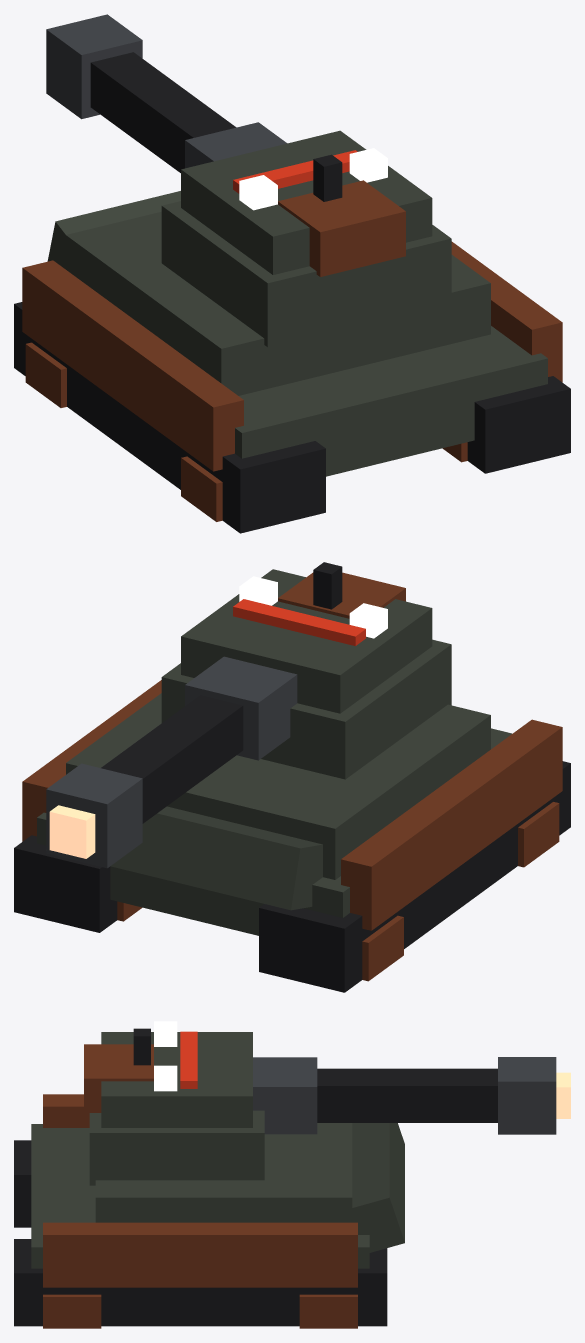
The model's file is tank.glb.
3 renders of one model, top to bottom at view 1: azimuth 30°, elevation 25°; view 2: azimuth 150°, elevation 25°; view 3: azimuth 270°, elevation 25°, orthographic. The views are drawn at different scales.
Parts seen in each view (by area): view 1: P07_PirateHull, P06_PirateHull, P09_PirateRust, P11_PirateHull, P00_Track, P12_PirateHull, P15_Track, P13_PirateRust, P01_Track, P16_Steel, P10_PirateRust, P14_Steel (+7 smaller); view 2: P07_PirateHull, P09_PirateRust, P12_PirateHull, P00_Track, P08_PirateHull, P11_PirateHull, P15_Track, P06_PirateHull, P01_Track, P16_Steel, P14_Steel, P10_PirateRust (+8 smaller); view 3: P10_PirateRust, P07_PirateHull, P01_Track, P12_PirateHull, P15_Track, P11_PirateHull, P06_PirateHull, P08_PirateHull, P14_Steel, P16_Steel, P13_PirateRust, P03_PirateRust (+8 smaller).
Boxes of the visible parts, x1,y1,x2,y2 form: P07_PirateHull: (66, 211, 490, 395); P06_PirateHull: (235, 326, 547, 476); P09_PirateRust: (22, 260, 243, 471); P11_PirateHull: (161, 201, 451, 347); P00_Track: (14, 302, 325, 533); P12_PirateHull: (181, 130, 432, 274); P15_Track: (90, 52, 236, 172); P13_PirateRust: (278, 180, 405, 276); P01_Track: (467, 376, 570, 473); P16_Steel: (46, 14, 142, 119); P10_PirateRust: (451, 241, 562, 382); P14_Steel: (185, 122, 287, 168); P07_PirateHull: (66, 693, 490, 879); P09_PirateRust: (341, 719, 562, 930); P12_PirateHull: (181, 569, 432, 713); P00_Track: (259, 761, 570, 992); P08_PirateHull: (46, 806, 322, 910); P11_PirateHull: (161, 639, 451, 779); P15_Track: (101, 695, 243, 823); P06_PirateHull: (37, 728, 511, 935); P01_Track: (14, 835, 117, 932); P16_Steel: (46, 763, 142, 868); P14_Steel: (185, 656, 297, 760); P10_PirateRust: (22, 680, 161, 841); P10_PirateRust: (43, 1222, 357, 1287); P07_PirateHull: (95, 1123, 352, 1222); P01_Track: (14, 1239, 387, 1326); P12_PirateHull: (101, 1032, 252, 1127); P15_Track: (317, 1068, 497, 1122); P11_PirateHull: (89, 1110, 264, 1185); P06_PirateHull: (31, 1124, 369, 1268); P08_PirateHull: (352, 1123, 404, 1252); P14_Steel: (253, 1057, 317, 1134); P16_Steel: (498, 1057, 556, 1134); P13_PirateRust: (84, 1044, 153, 1115); P03_PirateRust: (299, 1294, 357, 1328).
Bounding box in the file's own units: 57 × 43 × 95.5.
